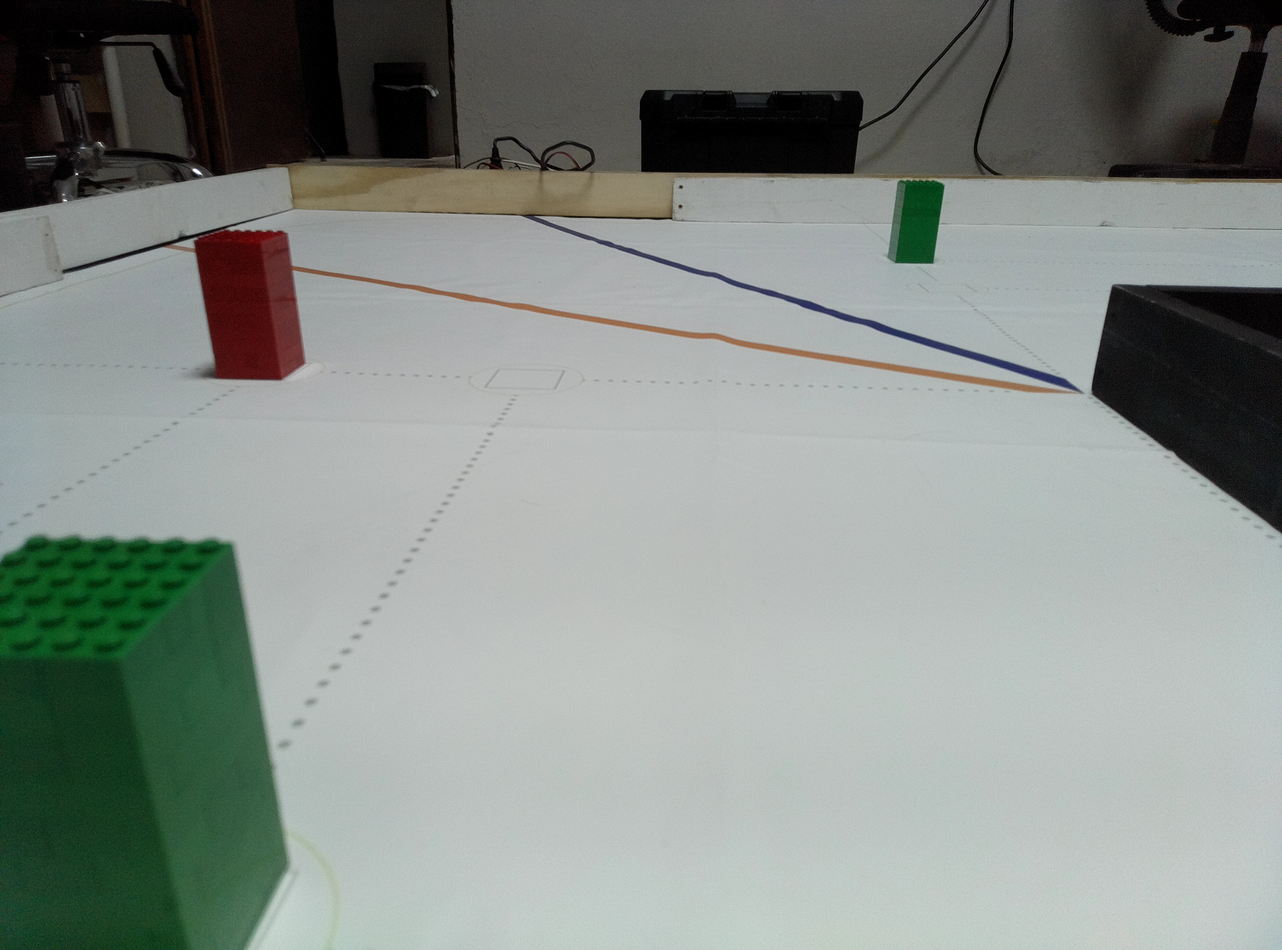greenbox: (0, 511, 298, 950), (887, 178, 947, 265)
redbox: (192, 229, 309, 382)
